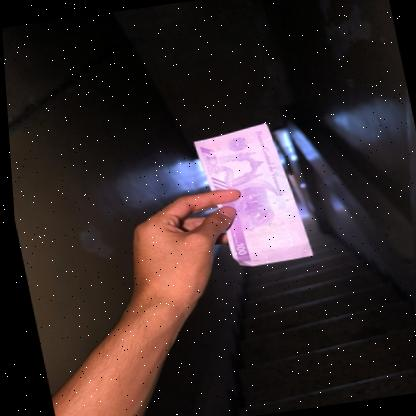one_hundred-back-vef: (188, 119, 311, 271)
